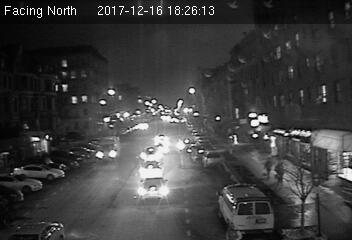car: (137, 177, 171, 204), (96, 136, 121, 163), (138, 161, 165, 179), (204, 154, 222, 167)
police: (216, 180, 273, 233)
